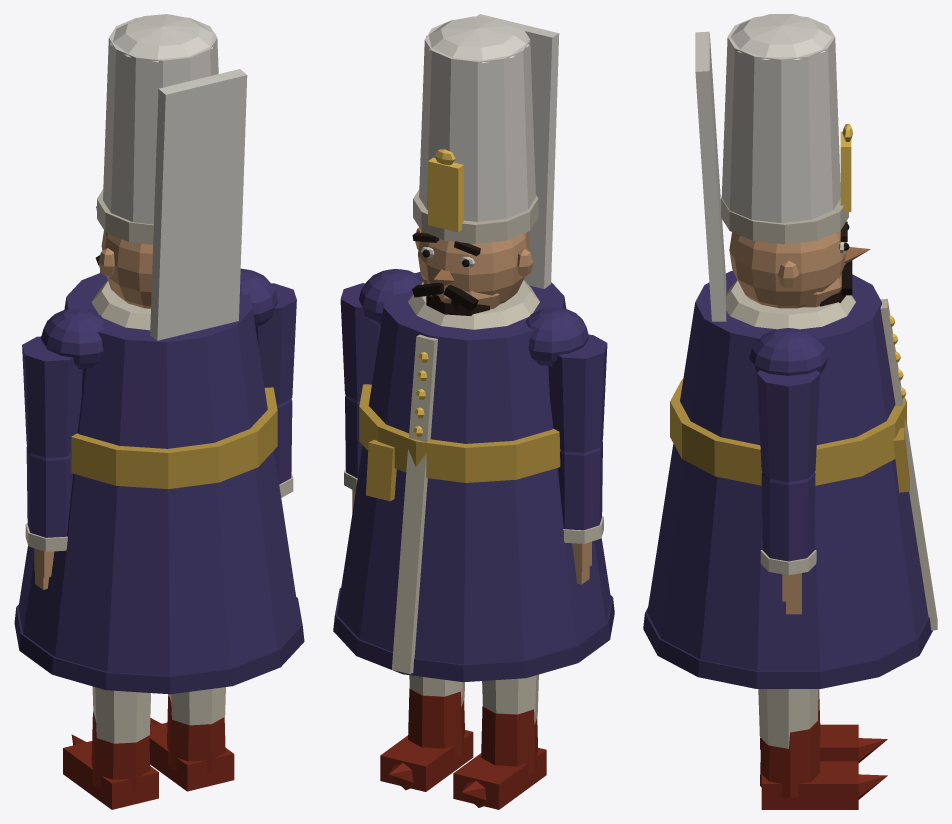
The model's file is yeniceri-3.glb.
3 renders of one model, left to right at view 1: azimuth 30°, elevation 25°; view 2: azimuth 150°, elevation 25°; view 3: azimuth 270°, elevation 25°, orthographic. The views are drawn at different scales.
Visible parts, largest first — view 1: govde, bas, kolL, bacakL, bacakR, kolR; view 2: govde, bas, kolL, bacakL, bacakR, kolR; view 3: govde, bas, kolR, bacakR, bacakL.
Boxes of the visible parts, bbox=[...] form: govde: bbox=[14, 268, 304, 694]; bas: bbox=[95, 14, 247, 340]; kolL: bbox=[22, 336, 82, 589]; bacakL: bbox=[63, 686, 158, 809]; bacakR: bbox=[149, 687, 234, 791]; kolR: bbox=[255, 283, 296, 497]; govde: bbox=[333, 269, 614, 682]; bas: bbox=[412, 14, 559, 315]; kolL: bbox=[548, 334, 607, 584]; bacakL: bbox=[453, 674, 546, 809]; bacakR: bbox=[380, 675, 473, 791]; kolR: bbox=[340, 283, 380, 512]; govde: bbox=[643, 270, 937, 688]; bas: bbox=[695, 14, 870, 321]; kolR: bbox=[757, 370, 819, 614]; bacakR: bbox=[758, 689, 887, 809]; bacakL: bbox=[760, 689, 887, 762].
Bounding box in the file's own units: 0.856 × 2.34 × 0.8207.
